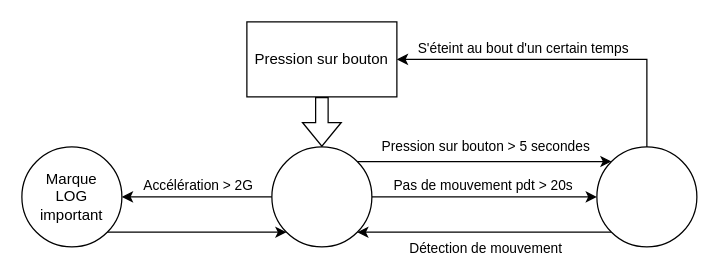
This 719x278 diagram has some shape labels left out. The centre of each missing label's shape, as x and y in pixels:
"Système en LOGGING" goes at point 321,196.
"Système en VEILLE" goes at point 646,196.
